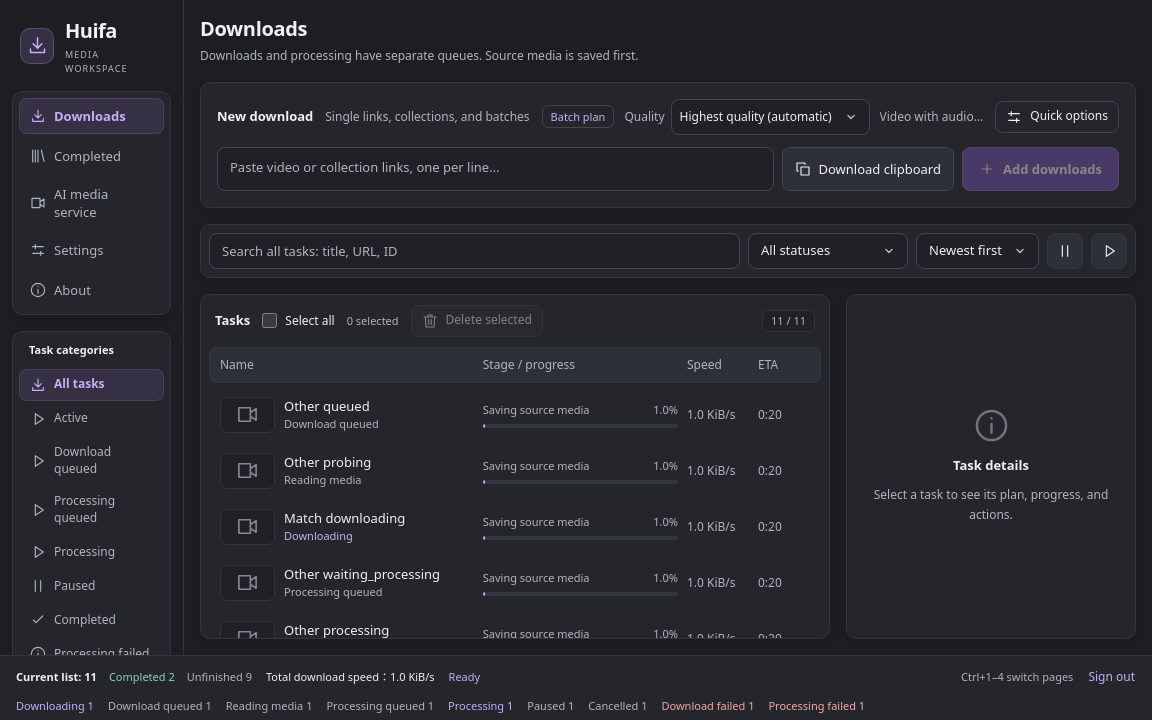
Test: live interface stability › summarizes the current filtered task list and follows live status changes and removals
Expected: the list is shown, [201,387,829,638]
Expected: the text "Current list: 11" is shown, [16,669,97,686]
Type "Match" into the search field named "Search tasks". click: (474, 251)
box: [209,233,740,269]
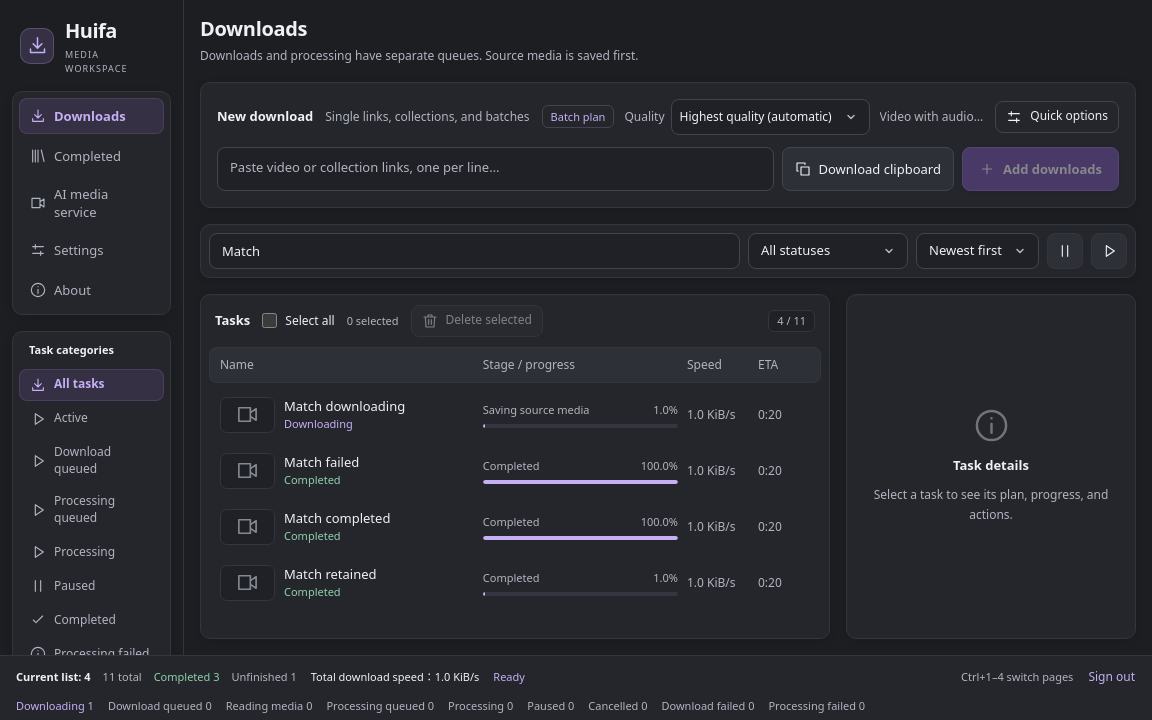
Expected: the text "Current list: 4" is shown, [16,669,91,686]
Expected: the text "11 total" is shown, [103,669,142,686]
Expected: the button "Download queued 0" is shown, [108,698,212,714]
Select "Completed" in the dropdown named "Status filter". click: (828, 251)
box: [748,233,908,269]
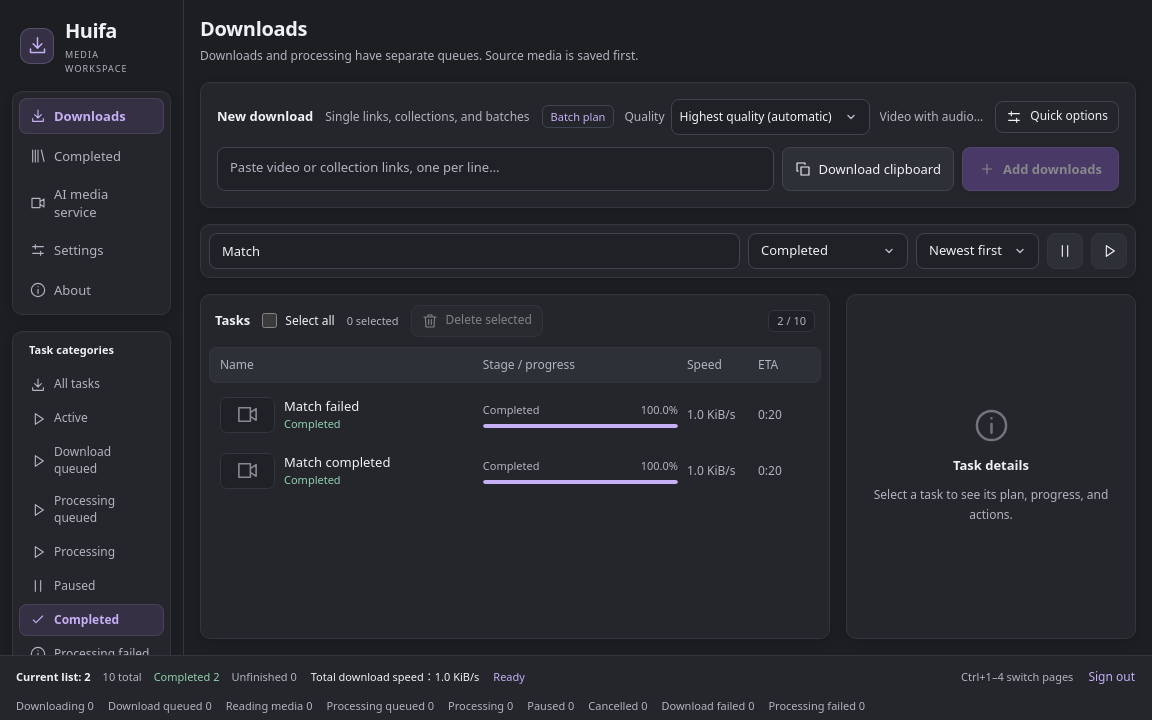
Expected: the text "Unfinished 0" is shown, [232,669,297,686]
Expected: the text "Current list: 2" is shown, [16,669,91,686]
Expected: the text "Completed 2" is shown, [154,669,220,686]
Replace the text in the search field named "Search tasks" with "no matches". click: (474, 251)
box: [209,233,740,269]
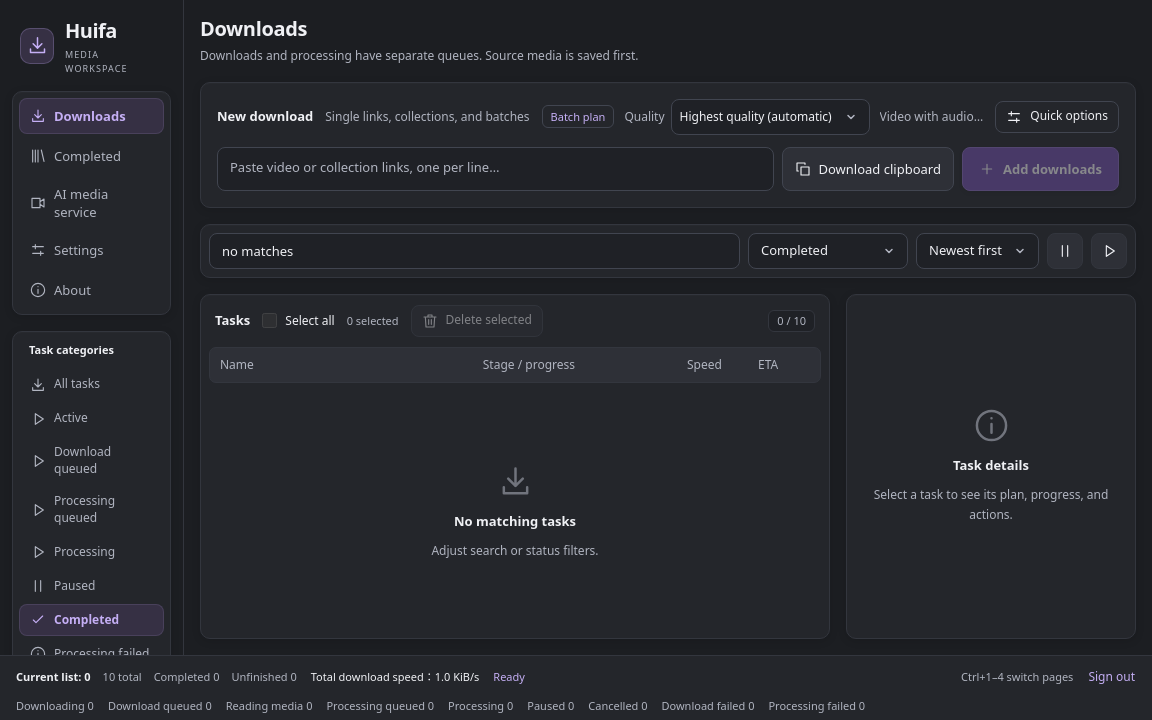
Expected: the text "Unfinished 0" is shown, [232,669,297,686]
Expected: the text "Current list: 0" is shown, [16,669,91,686]
Expected: the text "Completed 0" is shown, [154,669,220,686]
Click the button "Settings". click: click(92, 250)
box: [19,232,164,268]
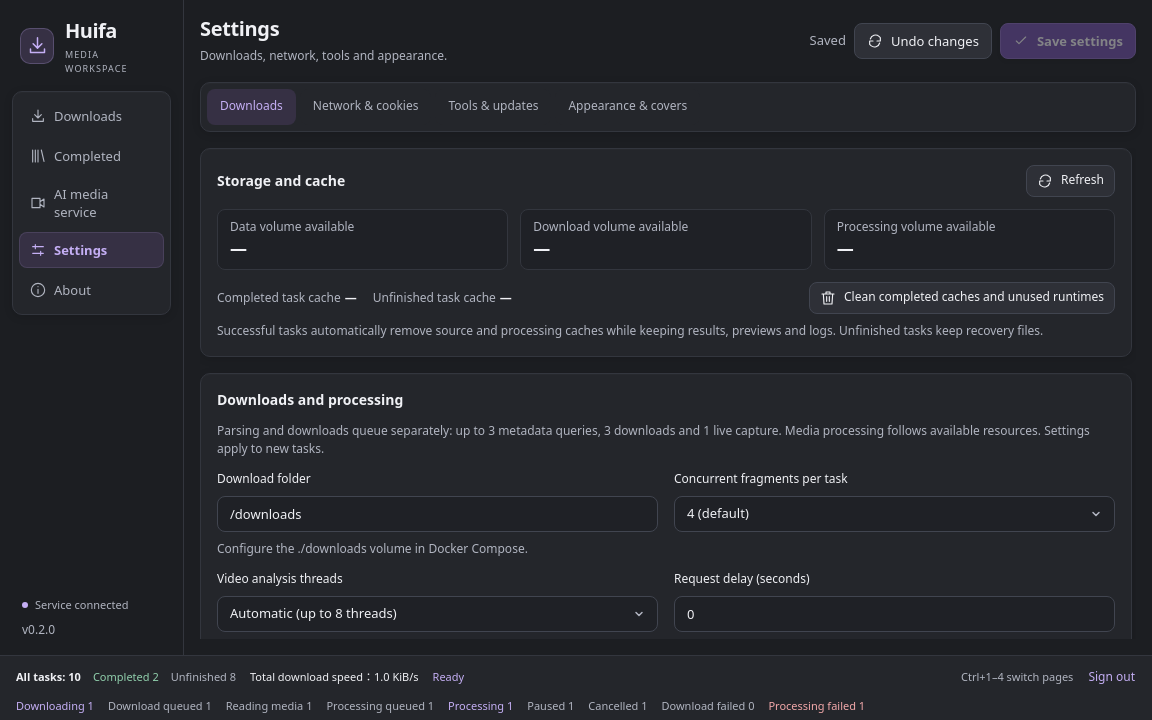
Expected: the text "All tasks: 10" is shown, [16,669,81,686]
Expected: the text "Completed 2" is shown, [93,669,159,686]
Expected: the text "Unfinished 8" is shown, [171,669,236,686]
